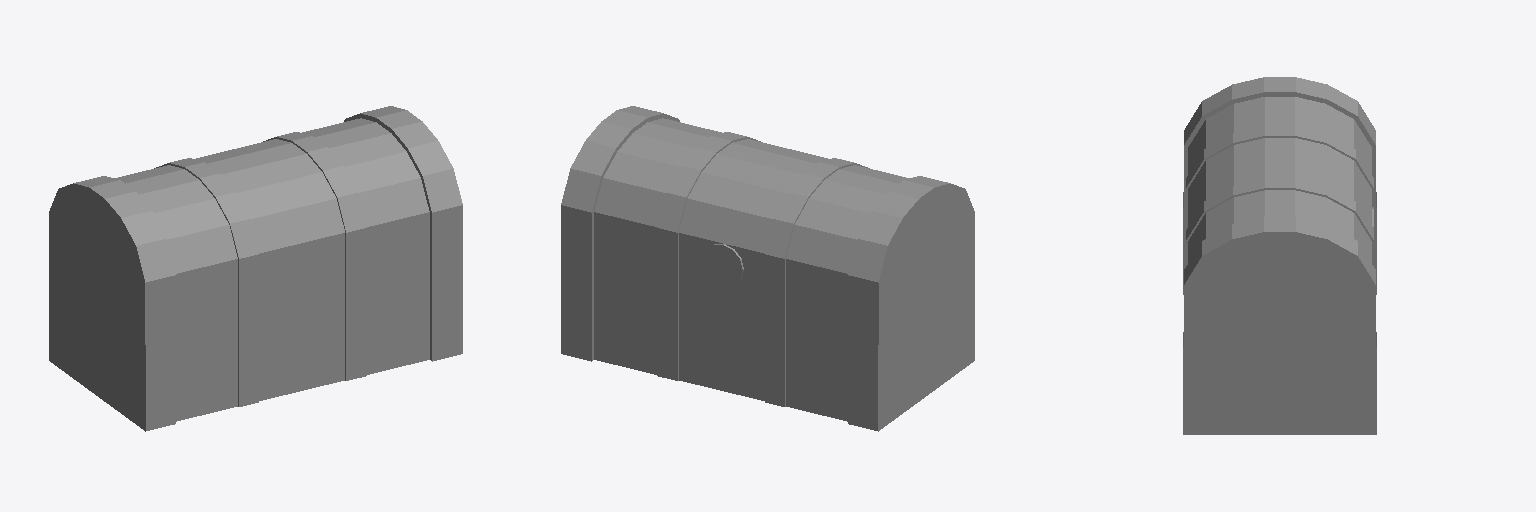
Rendered from treasure.obj.
3 renders of one model, left to right at view 1: azimuth 30°, elevation 25°; view 2: azimuth 150°, elevation 25°; view 3: azimuth 270°, elevation 25°, orthographic.
Visible parts, largest first — view 1: treasure_chest; view 2: treasure_chest; view 3: treasure_chest.
Part boxes in pixels (left/top/right/bottom): treasure_chest: left=49, top=106, right=462, bottom=431; treasure_chest: left=561, top=106, right=974, bottom=431; treasure_chest: left=1183, top=77, right=1376, bottom=434.
Size of the model in its own units: 1.92 by 1.17 by 1.01.